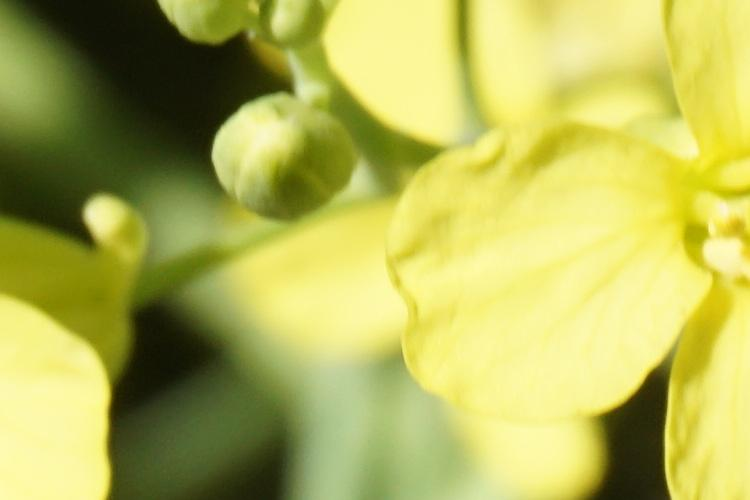bud: (177, 109, 369, 224), (262, 1, 337, 58), (159, 4, 256, 48)
yellow: (372, 56, 749, 492), (13, 202, 181, 497)
